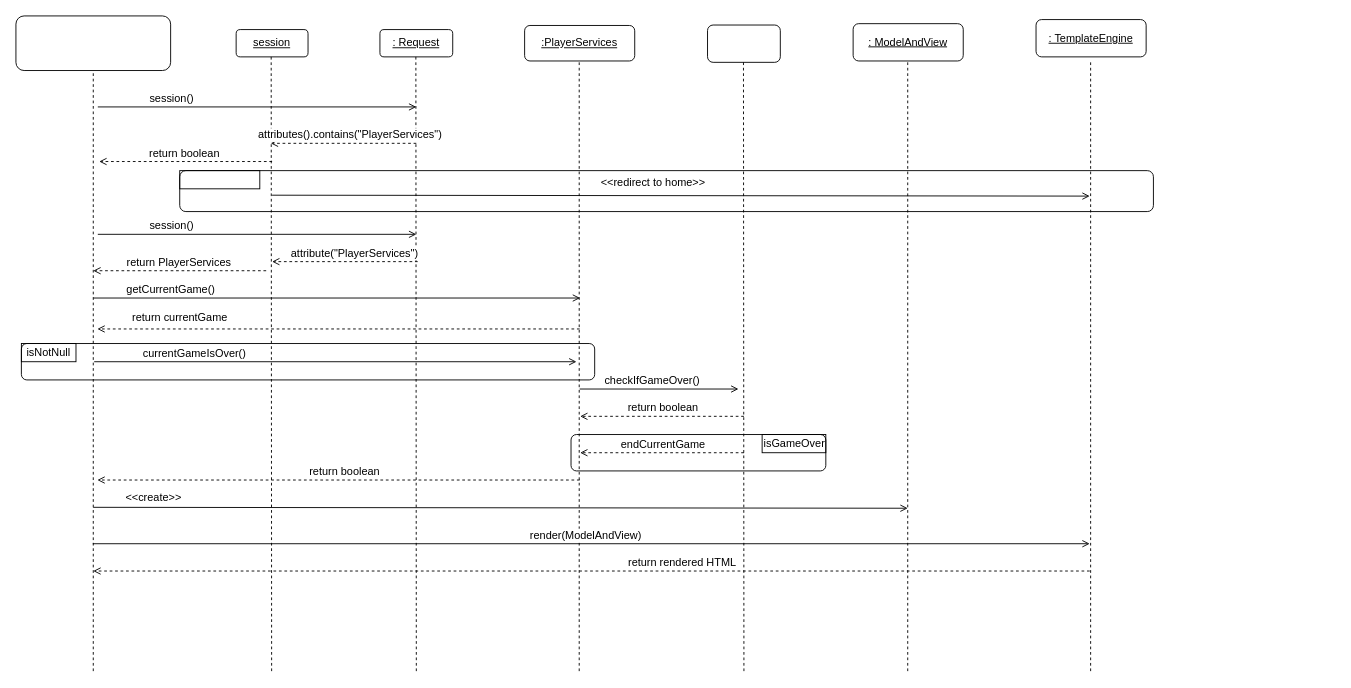
Some shapes in this 1351 by 688 pixel diagram are drawn without their labels. The centre of each missing label's shape, as x and y in pixels:
":Game" belongs at point 743,43.
"<<implementation class>> : GetHomeRoute" belongs at point 93,43.
"doesn't contain" belongs at point 219,179.
